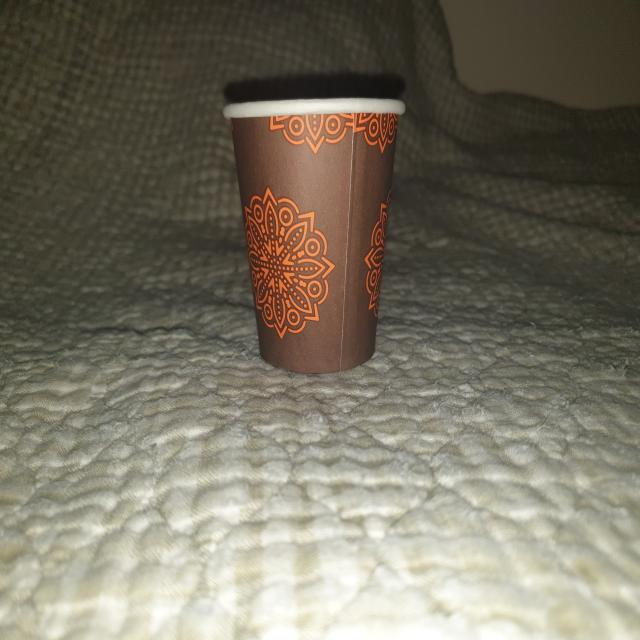cups: (217, 86, 417, 382)
